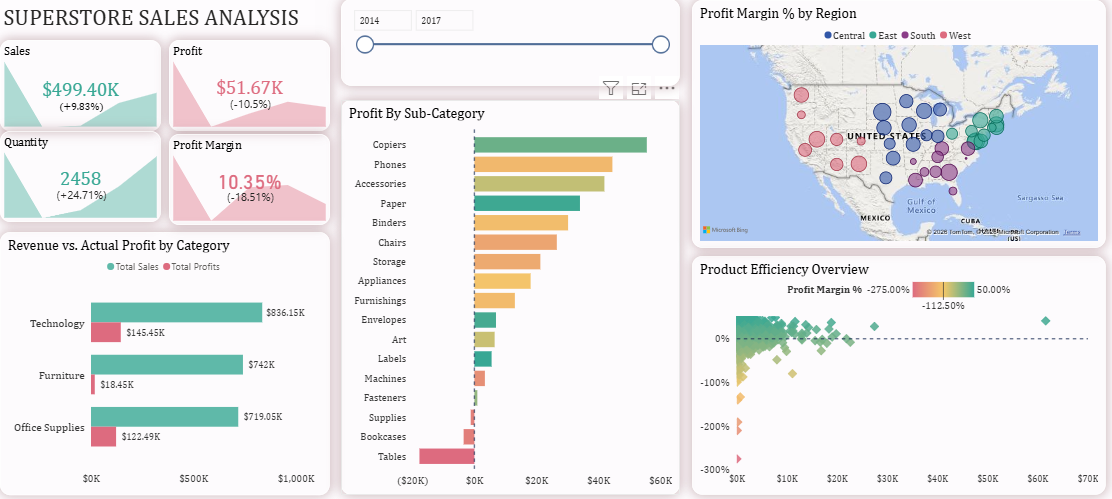

Layout of this report page (visuals, bound fields, positions):
{"tool":"powerbi","page":{"name":"Dashboard","canvas":[1600,720],"ordinal":0},"visuals":[{"type":"scatterChart","title":"Product Efficiency Overview","fields":{"X":["_Measure.Total Sales"],"Category":["Product_Details.Product Name"],"Y":["_Measure.Profit Margin %"]},"box":[994.3,371.4,591.4,341.4],"z":0},{"type":"clusteredBarChart","title":"Profit By Sub-Category","fields":{"Category":["Product_Details.Sub-Category"],"Y":["_Measure.Total Profits"]},"box":[492.9,148.6,484.3,564.3],"z":1000},{"type":"clusteredBarChart","title":"Revenue vs. Actual Profit by Category","fields":{"Category":["Product_Details.Category"],"Y":["_Measure.Total Sales","_Measure.Total Profits"]},"box":[5.7,337.1,471.4,375.7],"z":2000},{"type":"slicer","title":"Total Profits Over The Years","fields":{"Values":["Date.Order Date.Variation.Date Hierarchy.Year"]},"box":[492.9,4.3,484.3,124.3],"z":3000},{"type":"map","title":"Profit Margin % by Region","fields":{"Series":["Customer_Details.Region"],"Category":["Customer_Details.State"],"Size":["_Measure.Profit Margin %"]},"box":[994.3,5.7,591.4,354.3],"z":4000},{"type":"textbox","box":[5,5,450,50],"z":5000},{"type":"kpi","title":"Sales","fields":{"Indicator":["_Measure.Total Sales"],"TrendLine":["Date.Order Date.Variation.Date Hierarchy.Year"],"Goal":["_Measure.Total Sales LY"]},"box":[5.7,62.9,230,130],"z":6000},{"type":"kpi","title":"Profit","fields":{"TrendLine":["Date.Order Date.Variation.Date Hierarchy.Year"],"Indicator":["_Measure.Total Profits"],"Goal":["_Measure.Total Profit LY"]},"box":[247.1,62.9,230,130],"z":7000},{"type":"kpi","title":"Quantity","fields":{"Indicator":["_Measure.Total Products Counts"],"TrendLine":["Date.Order Date.Variation.Date Hierarchy.Year"],"Goal":["_Measure.Total Product Count LY"]},"box":[5.7,192.9,230,130],"z":8000},{"type":"kpi","title":"Profit Margin ","fields":{"Indicator":["_Measure.Profit Margin %"],"TrendLine":["Date.Order Date.Variation.Date Hierarchy.Year"],"Goal":["_Measure.Profit Margin LY"]},"box":[247.1,197.1,230,130],"z":9000}]}

Visuals, with their boxes in screenshot pixels (x1, y1, x2, y2), scaled from the page's 1600x720 canvas onto the 1112x499 screenshot:
"Product Efficiency Overview" scatterChart: 691, 257, 1102, 494
"Profit By Sub-Category" clusteredBarChart: 343, 103, 679, 494
"Revenue vs. Actual Profit by Category" clusteredBarChart: 4, 234, 332, 494
"Total Profits Over The Years" slicer: 343, 3, 679, 89
"Profit Margin % by Region" map: 691, 4, 1102, 250
textbox: 3, 3, 316, 38
"Sales" kpi: 4, 44, 164, 134
"Profit" kpi: 172, 44, 332, 134
"Quantity" kpi: 4, 134, 164, 224
"Profit Margin " kpi: 172, 137, 332, 227
